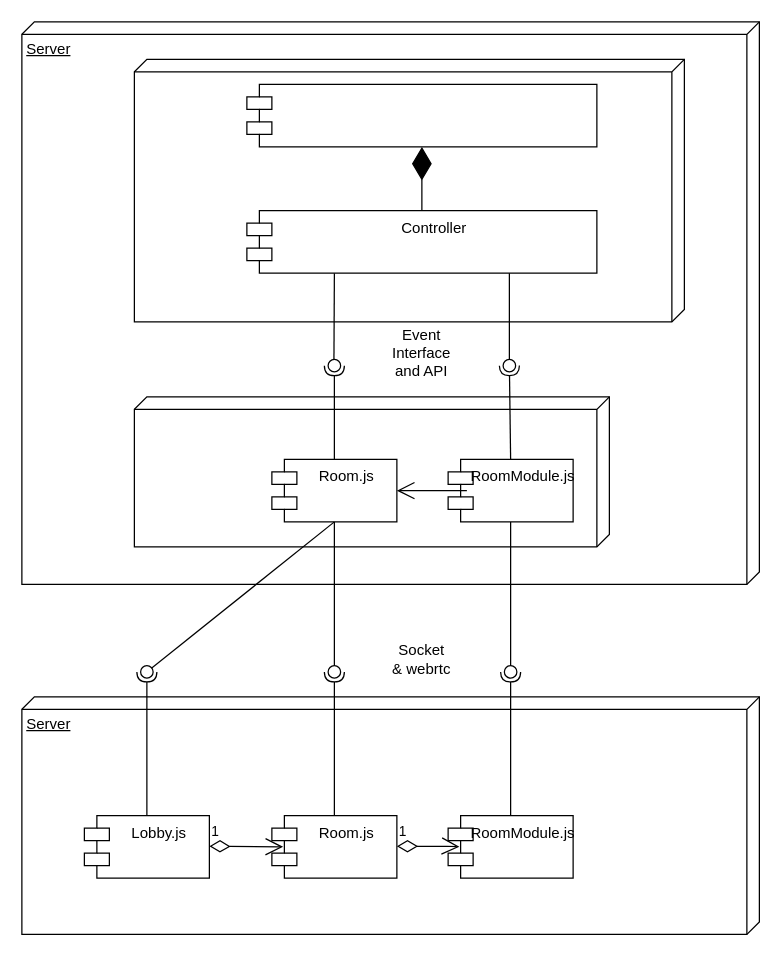
Some shapes in this 781 by 956 pixel diagram are drawn without their labels. Here are the shapes that lost their labels. From the top down, the box of each, then its label:
(246, 83, 597, 147): Viewer
(133, 58, 684, 322): UI Layer
(133, 396, 609, 547): App Layer
